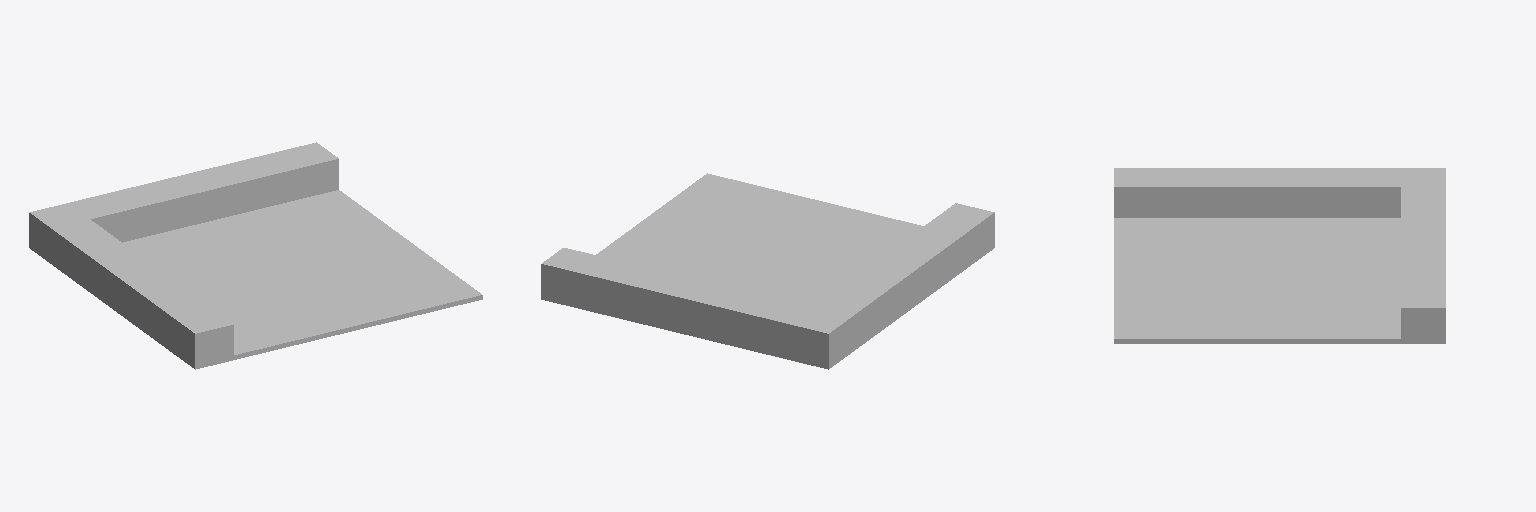
Rendered from 4x2 roof (1)-4.obj.
3 views of the same model, side by side, from view 1: azimuth 30°, elevation 25°; view 2: azimuth 150°, elevation 25°; view 3: azimuth 270°, elevation 25° (orthographic).
Parts seen in each view (by area): view 1: 4x2 roof (1)-4; view 2: 4x2 roof (1)-4; view 3: 4x2 roof (1)-4.
Boxes of the visible parts, x1=… form: 4x2 roof (1)-4: x1=29, y1=142, x2=482, y2=369; 4x2 roof (1)-4: x1=541, y1=173, x2=994, y2=369; 4x2 roof (1)-4: x1=1114, y1=168, x2=1445, y2=343.
Size of the model in its own units: 126 by 15 by 126.